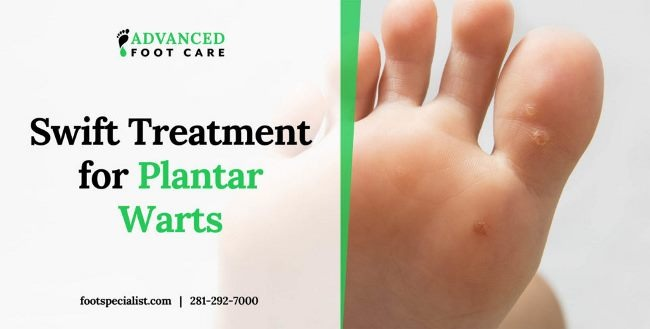Warts: (516, 85, 563, 159)
